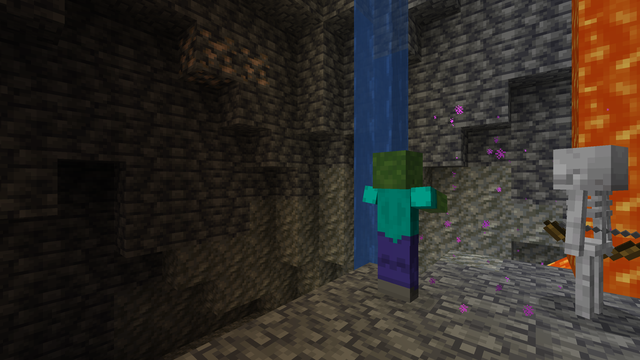squelettes: (554, 144, 634, 333)
zombies: (368, 153, 426, 308)
